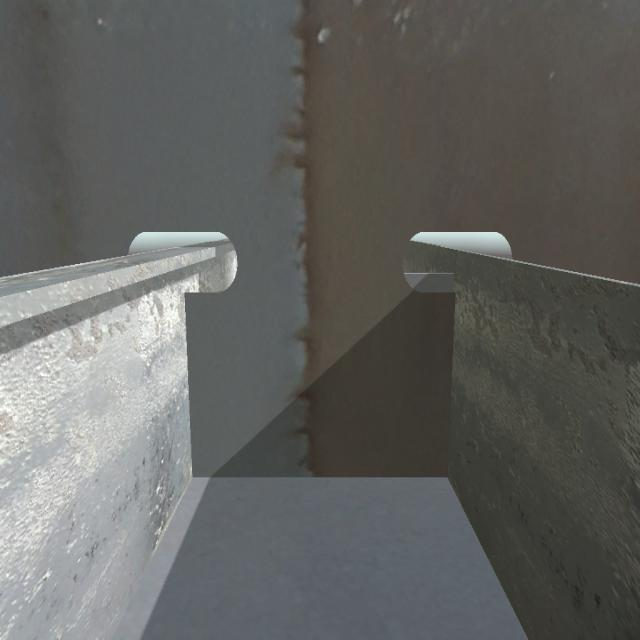fillet_yong_jeop_jang: (188, 462, 454, 484)
longi_yong_jeop_jang: (441, 268, 461, 474), (182, 278, 200, 484)
plate_behind: (408, 267, 450, 294)
